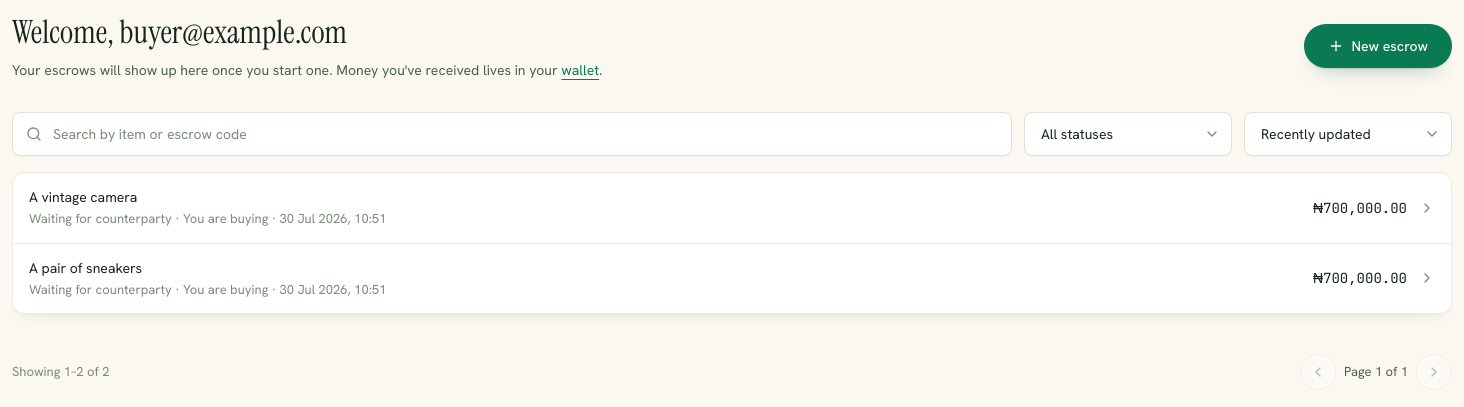
DashboardPage › search, filter, sort, and pagination › debounces search input and narrows the list to matching item descriptions
Check: the text "A vintage camera" is shown, box [29,188,137,206]
Check: the text "A pair of sneakers" is shown, box [29,258,142,276]
Type "camera" into the search field named "Search escrows" at (512, 134), box [12,112,1012,156]
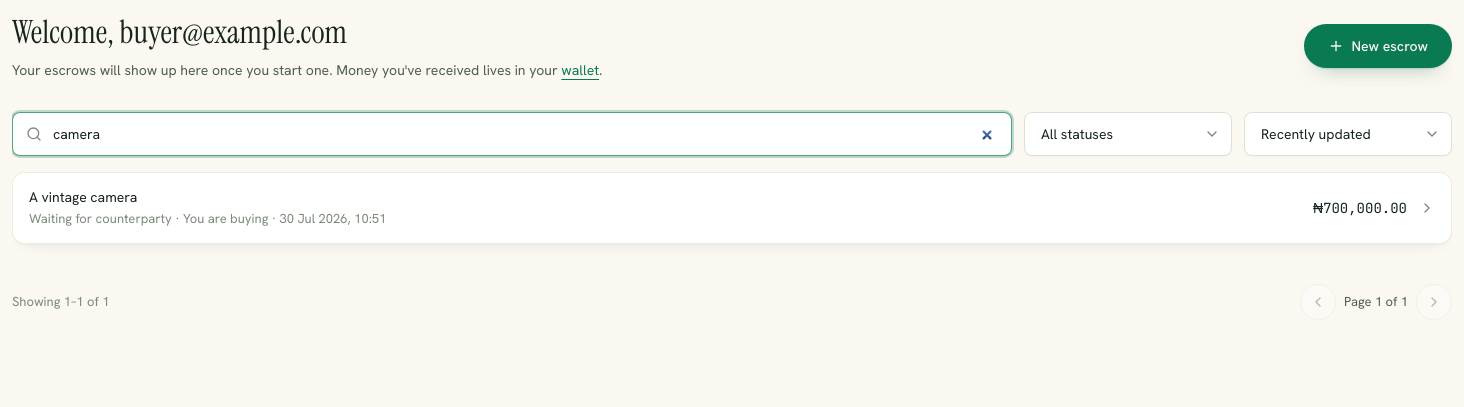
Check: the text "A vintage camera" is shown, box [29,188,137,206]
Check: the link "A pair of sneakers" is gone
